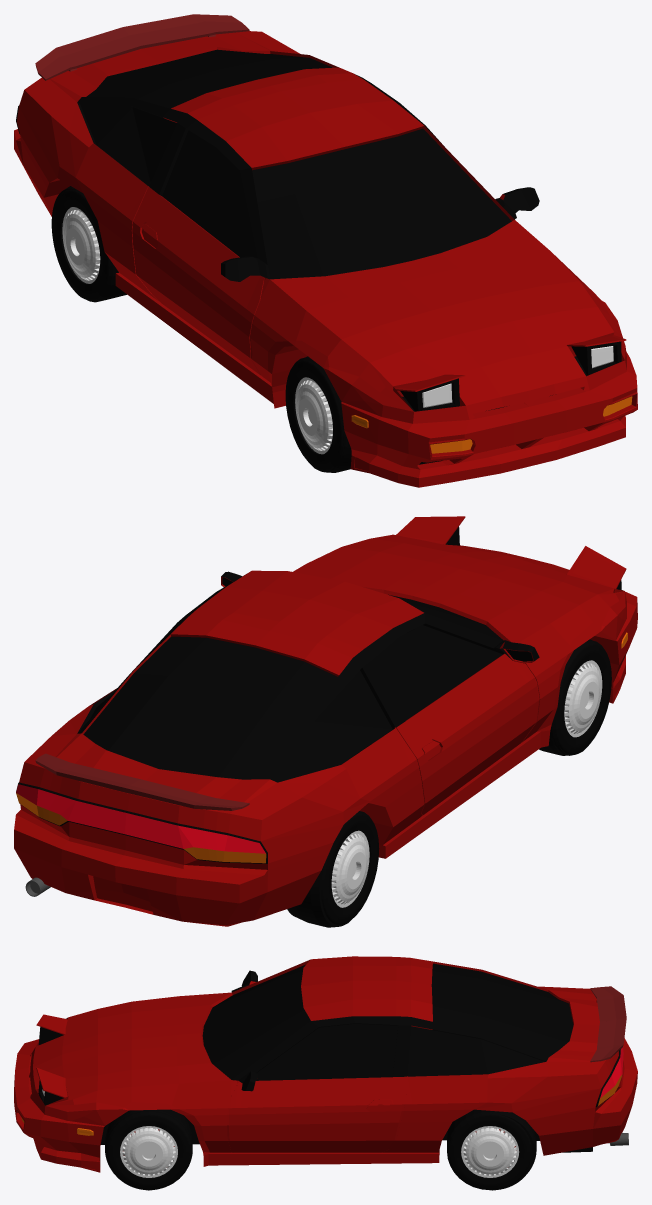
File: nis22san.fbx
3 renders of one model, top to bottom at view 1: azimuth 30°, elevation 25°; view 2: azimuth 150°, elevation 25°; view 3: azimuth 270°, elevation 25°, orthographic. The views are drawn at different scales.
Visible parts, largest first — view 1: Куб, Куб.001, Цилиндр.001, Цилиндр.003, Куб.003, Куб.004; view 2: Куб, Цилиндр.001, Цилиндр.003, Куб.001, Куб.003, Куб.004, Куб.007; view 3: Куб, Цилиндр, Цилиндр.002, Куб.001, Куб.004, Куб.002, Куб.003, Куб.007.
Part boxes in pixels (left/top/right/bottom): Куб: left=14, top=31, right=637, bottom=487; Куб.001: left=35, top=14, right=249, bottom=80; Цилиндр.001: left=285, top=356, right=347, bottom=472; Цилиндр.003: left=52, top=187, right=126, bottom=302; Куб.003: left=393, top=374, right=465, bottom=411; Куб.004: left=567, top=335, right=626, bottom=375; Куб: left=14, top=534, right=637, bottom=926; Цилиндр.001: left=550, top=640, right=611, bottom=755; Цилиндр.003: left=321, top=811, right=379, bottom=924; Куб.001: left=35, top=753, right=249, bottom=810; Куб.003: left=567, top=546, right=626, bottom=591; Куб.004: left=396, top=516, right=465, bottom=545; Куб.007: left=287, top=864, right=349, bottom=927; Куб: left=14, top=956, right=637, bottom=1172; Цилиндр: left=105, top=1110, right=192, bottom=1189; Цилиндр.002: left=447, top=1109, right=532, bottom=1189; Куб.001: left=590, top=986, right=626, bottom=1062; Куб.004: left=36, top=1068, right=67, bottom=1105; Куб.002: left=105, top=1109, right=192, bottom=1190; Куб.003: left=36, top=1014, right=67, bottom=1044; Куб.007: left=475, top=1111, right=536, bottom=1190.
Size of what is drawn, in the model's own units: 192 by 131 by 451.
